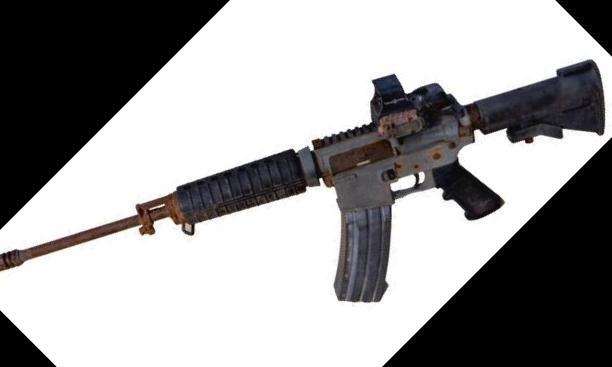larga: (0, 59, 606, 303)
